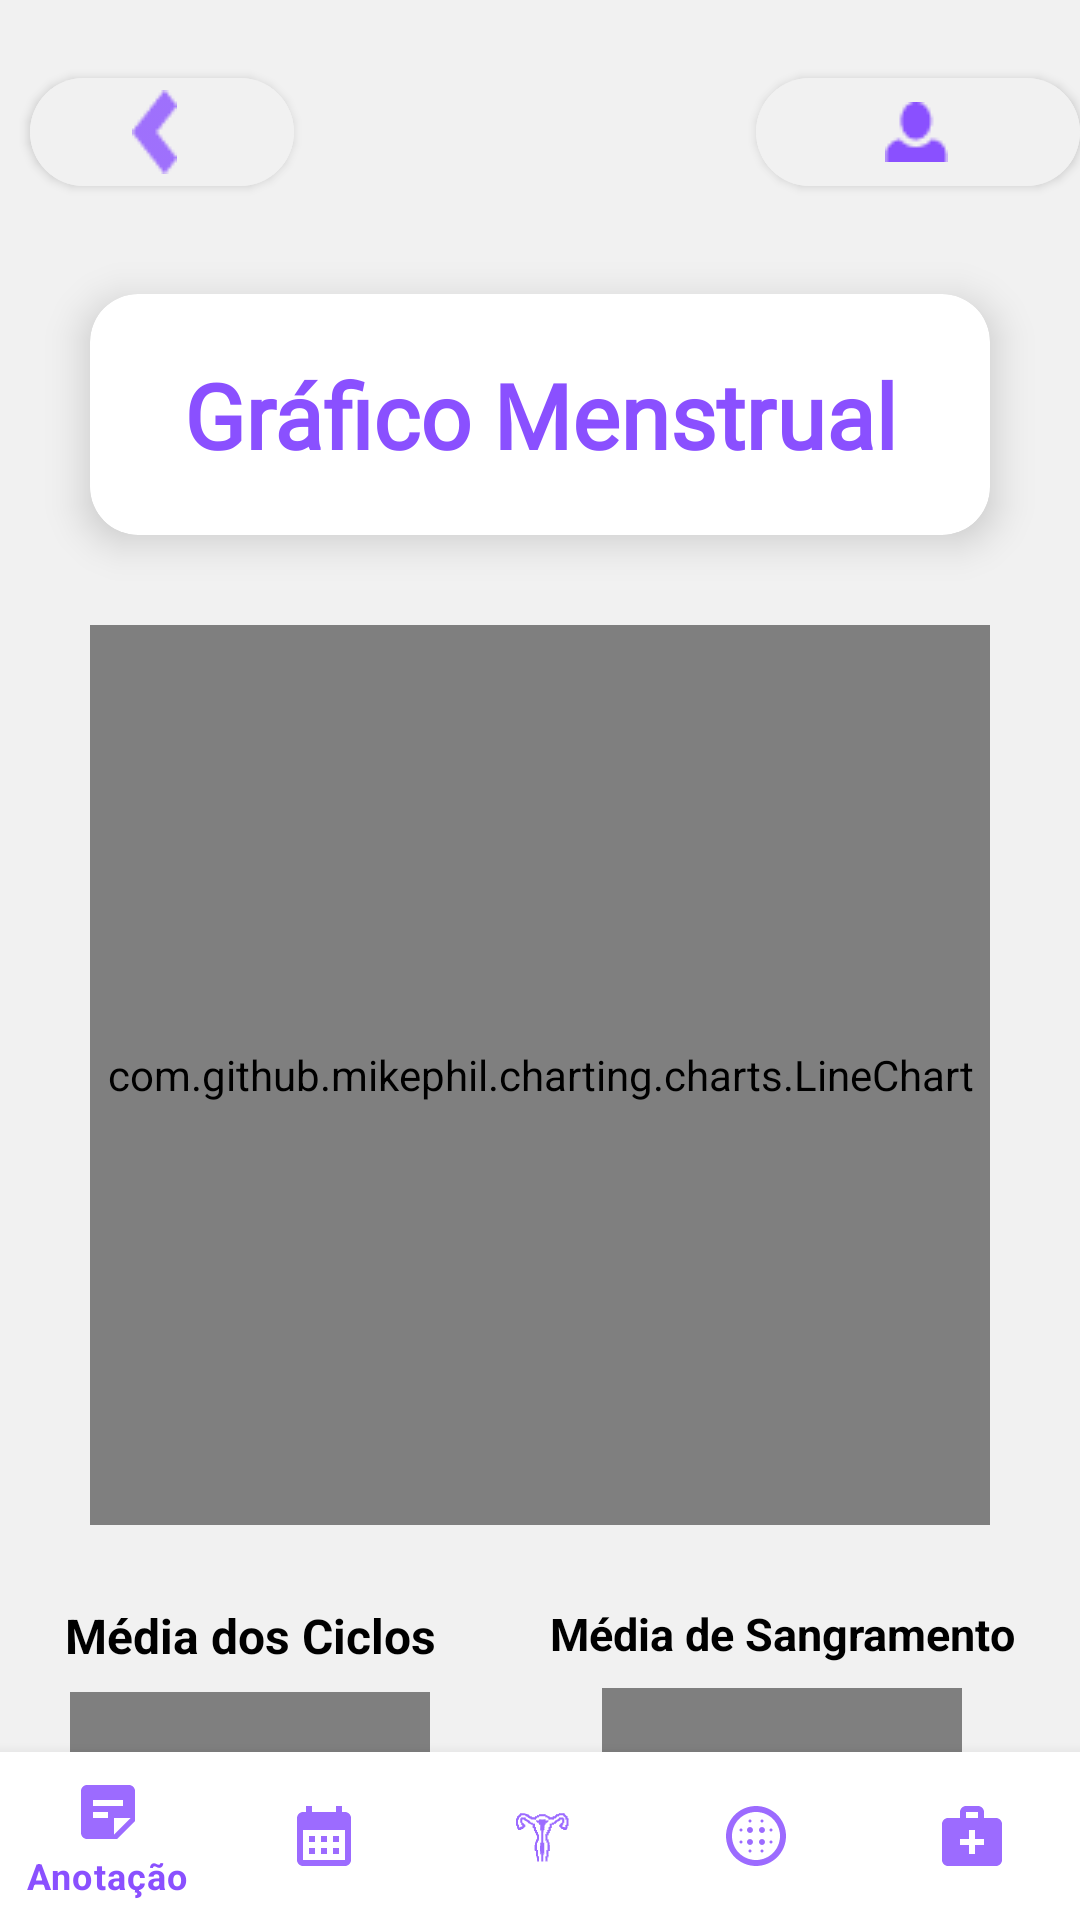

Named icons in this screenshot (1080px×1920px) and their bounding boxes, (x1, y1, x2, y2):
Voltar: (30, 90, 177, 174)
